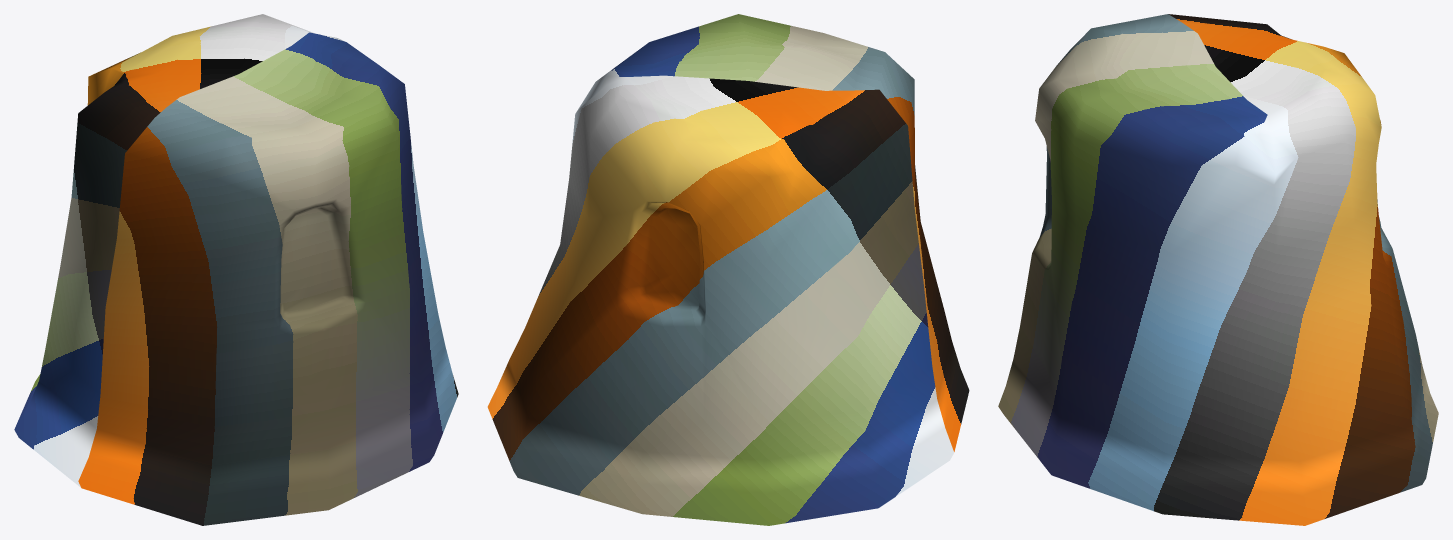
Rendered from Prop_SunlightSandcastleB.glb.
The picture shows the model from 3 angles, left to right: view 1: azimuth 30°, elevation 25°; view 2: azimuth 150°, elevation 25°; view 3: azimuth 270°, elevation 25°; orthographic projection.
Visible parts, largest first — view 1: Prop_SunlightSandcastleB; view 2: Prop_SunlightSandcastleB; view 3: Prop_SunlightSandcastleB.
Boxes of the visible parts, x1,y1,x2,y2 form: Prop_SunlightSandcastleB: (14, 14, 458, 525); Prop_SunlightSandcastleB: (487, 14, 969, 525); Prop_SunlightSandcastleB: (998, 14, 1438, 525).
Bounding box in the file's own units: 3.3 × 2.83 × 3.14.
1 material, 1 textured.
